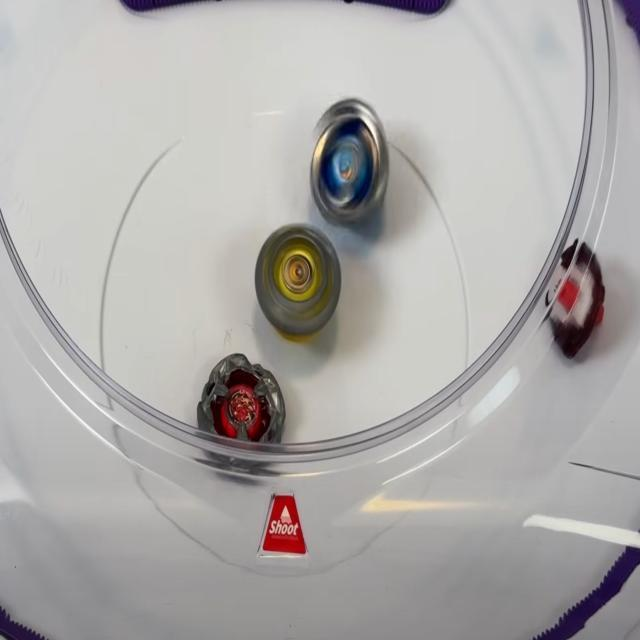Beyblade: (308, 96, 390, 228), (196, 351, 288, 466), (255, 224, 341, 338), (545, 240, 606, 358)
